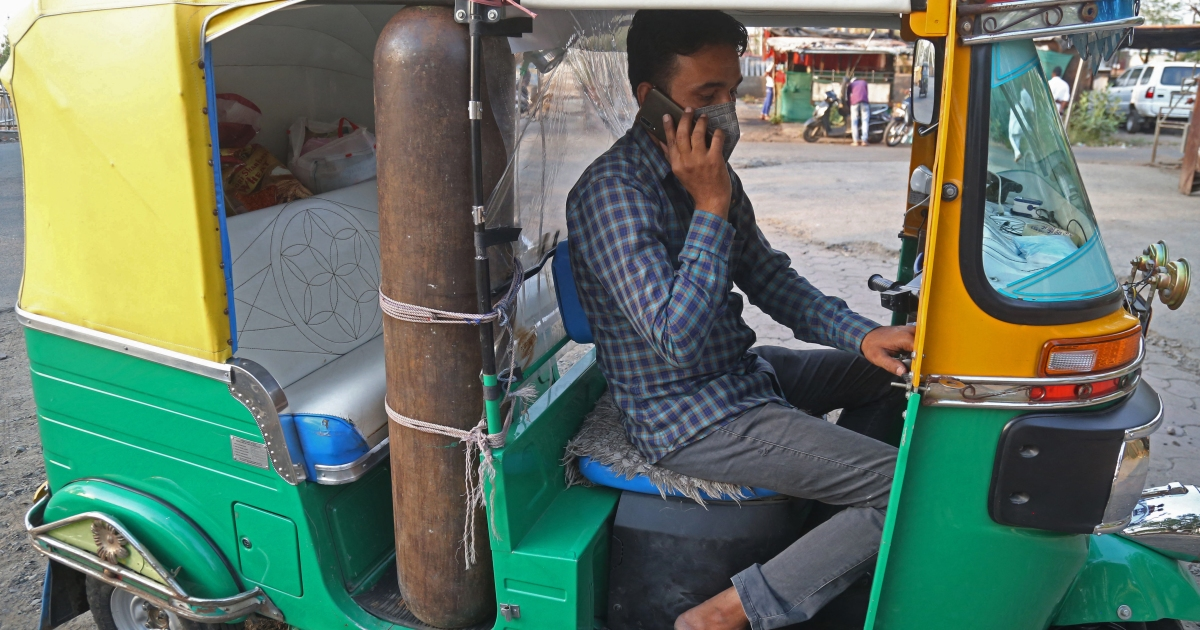rickshaw: (19, 11, 1200, 630)
